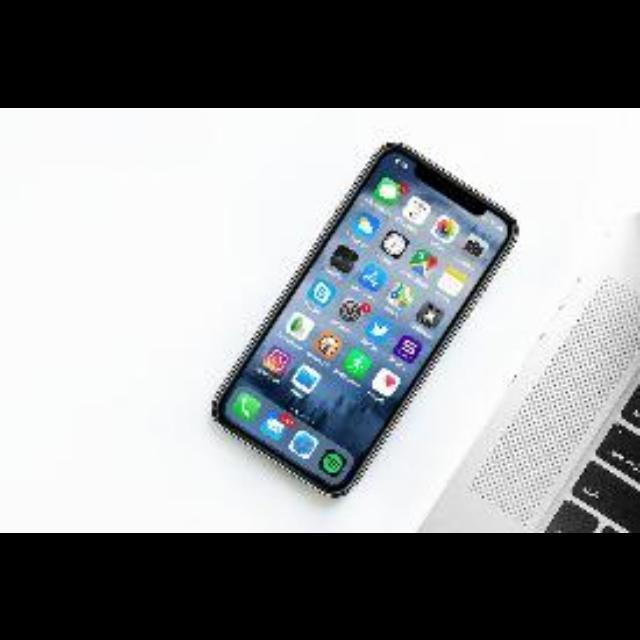PhoneUse: (212, 141, 518, 497)
